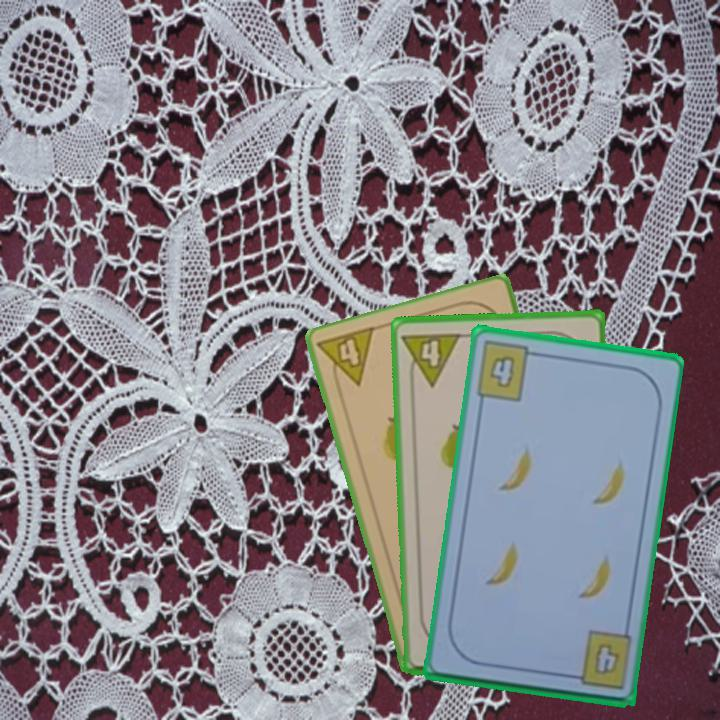4b: (472, 337, 542, 404), (589, 639, 622, 678)
4p: (314, 323, 378, 397), (399, 328, 464, 390)
